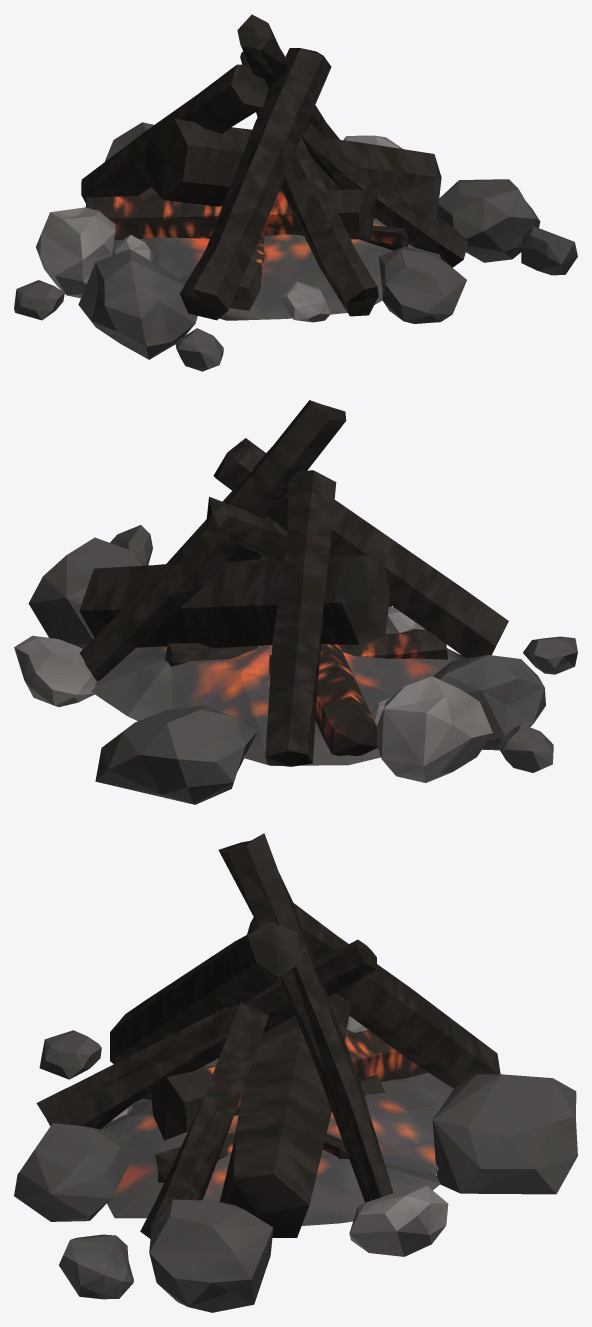
The model's file is campfire01.fbx.
3 renders of one model, top to bottom at view 1: azimuth 30°, elevation 25°; view 2: azimuth 150°, elevation 25°; view 3: azimuth 270°, elevation 25°, orthographic. The views are drawn at different scales.
Parts seen in each view (by area): view 1: campfire01; view 2: campfire01; view 3: campfire01.
Boxes of the visible parts, x1,y1,x2,y2 form: campfire01: (14,14,577,371); campfire01: (14,400,577,804); campfire01: (14,833,577,1312).
Size of the model in its own units: 1.71 by 0.9613 by 1.41.
